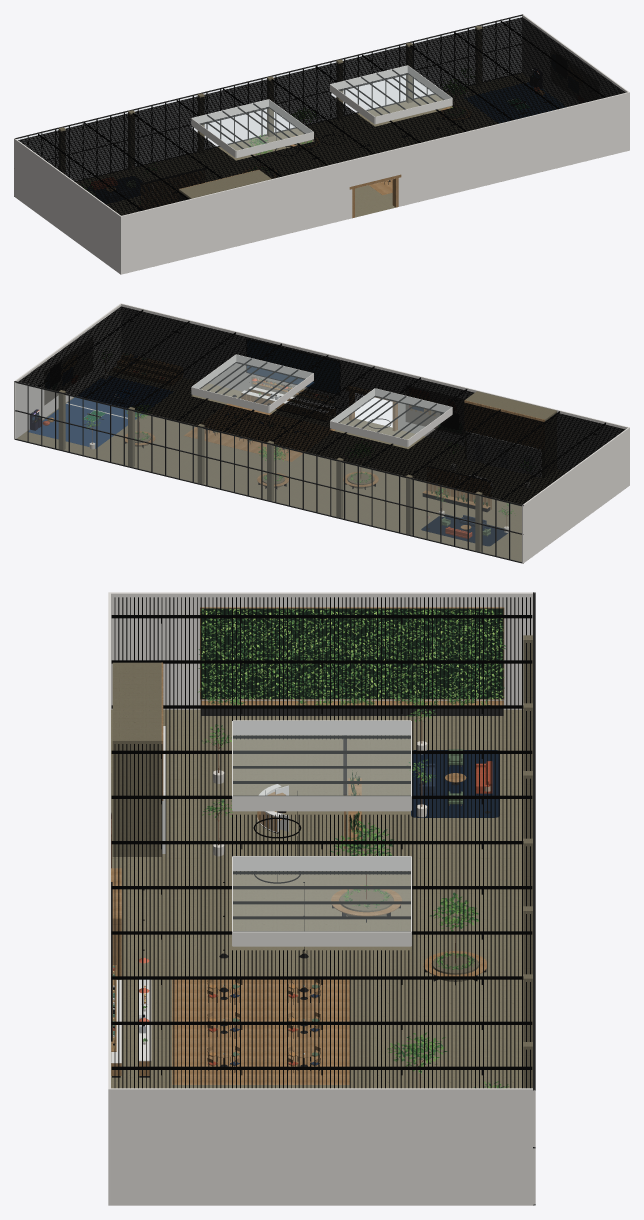
The model's file is atrium.glb.
The picture shows the model from 3 angles, top to bottom: view 1: azimuth 30°, elevation 25°; view 2: azimuth 150°, elevation 25°; view 3: azimuth 270°, elevation 25°; orthographic projection. The views are drawn at different scales.
Visible parts, largest first — view 1: atrium-ceiling-wood, atrium-baked-paint-wall, atrium-roofglass-glass, atrium-baked-floor, atrium-ceiling-ceiling, atrium-ceiling-metal-dark, atrium-glass-glass, atrium-baked-concrete, atrium-baked-metal-dark, atrium-baked-wood, atrium-baked-paint, atrium-baked-felt; view 2: atrium-ceiling-wood, atrium-glass-glass, atrium-baked-floor, atrium-baked-paint-wall, atrium-baked-metal-dark, atrium-roofglass-glass, atrium-baked-wood, atrium-baked-concrete, atrium-ceiling-ceiling, atrium-ceiling-metal-dark, atrium-baked-paint, atrium-baked-felt (+5 smaller); view 3: atrium-baked-floor, atrium-baked-paint-wall, atrium-ceiling-wood, atrium-roofglass-glass, atrium-baked-wood, atrium-baked-paint, atrium-ceiling-metal-dark, atrium-baked-foliage, atrium-baked-concrete, atrium-ceiling-ceiling, atrium-baked-felt, atrium-baked-metal-dark (+2 smaller).
Part boxes in pixels (x1,y1,x2,y2): atrium-ceiling-wood: [18, 17, 625, 215]; atrium-baked-paint-wall: [14, 14, 629, 274]; atrium-roofglass-glass: [192, 66, 451, 150]; atrium-baked-floor: [77, 73, 567, 217]; atrium-ceiling-ceiling: [191, 65, 452, 158]; atrium-ceiling-metal-dark: [38, 21, 605, 210]; atrium-glass-glass: [17, 16, 521, 146]; atrium-baked-concrete: [58, 25, 482, 201]; atrium-baked-metal-dark: [14, 14, 524, 196]; atrium-baked-wood: [107, 106, 469, 218]; atrium-baked-paint: [464, 68, 566, 123]; atrium-baked-felt: [89, 50, 599, 202]; atrium-ceiling-wood: [17, 306, 625, 506]; atrium-glass-glass: [15, 383, 521, 561]; atrium-baked-floor: [17, 371, 566, 561]; atrium-baked-paint-wall: [14, 303, 629, 563]; atrium-baked-metal-dark: [14, 339, 523, 563]; atrium-roofglass-glass: [192, 355, 451, 439]; atrium-baked-wood: [95, 353, 544, 529]; atrium-baked-concrete: [58, 390, 556, 551]; atrium-ceiling-ceiling: [191, 354, 452, 447]; atrium-ceiling-metal-dark: [38, 310, 605, 499]; atrium-baked-paint: [28, 376, 490, 512]; atrium-baked-felt: [44, 338, 508, 546]; atrium-baked-floor: [111, 709, 523, 1088]; atrium-baked-paint-wall: [108, 592, 535, 1205]; atrium-ceiling-wood: [114, 597, 530, 1088]; atrium-roofglass-glass: [233, 721, 410, 931]; atrium-baked-wood: [111, 607, 504, 1084]; atrium-baked-paint: [201, 608, 503, 849]; atrium-ceiling-metal-dark: [111, 615, 532, 1069]; atrium-baked-foliage: [143, 608, 509, 1088]; atrium-baked-concrete: [112, 635, 532, 1088]; atrium-ceiling-ceiling: [232, 720, 411, 946]; atrium-baked-felt: [111, 750, 499, 868]; atrium-baked-metal-dark: [111, 592, 535, 1205].
Size of what is drawn, in the model's own units: 66 by 8.14 by 24.
Materials: 23 (7 with a texture image).
